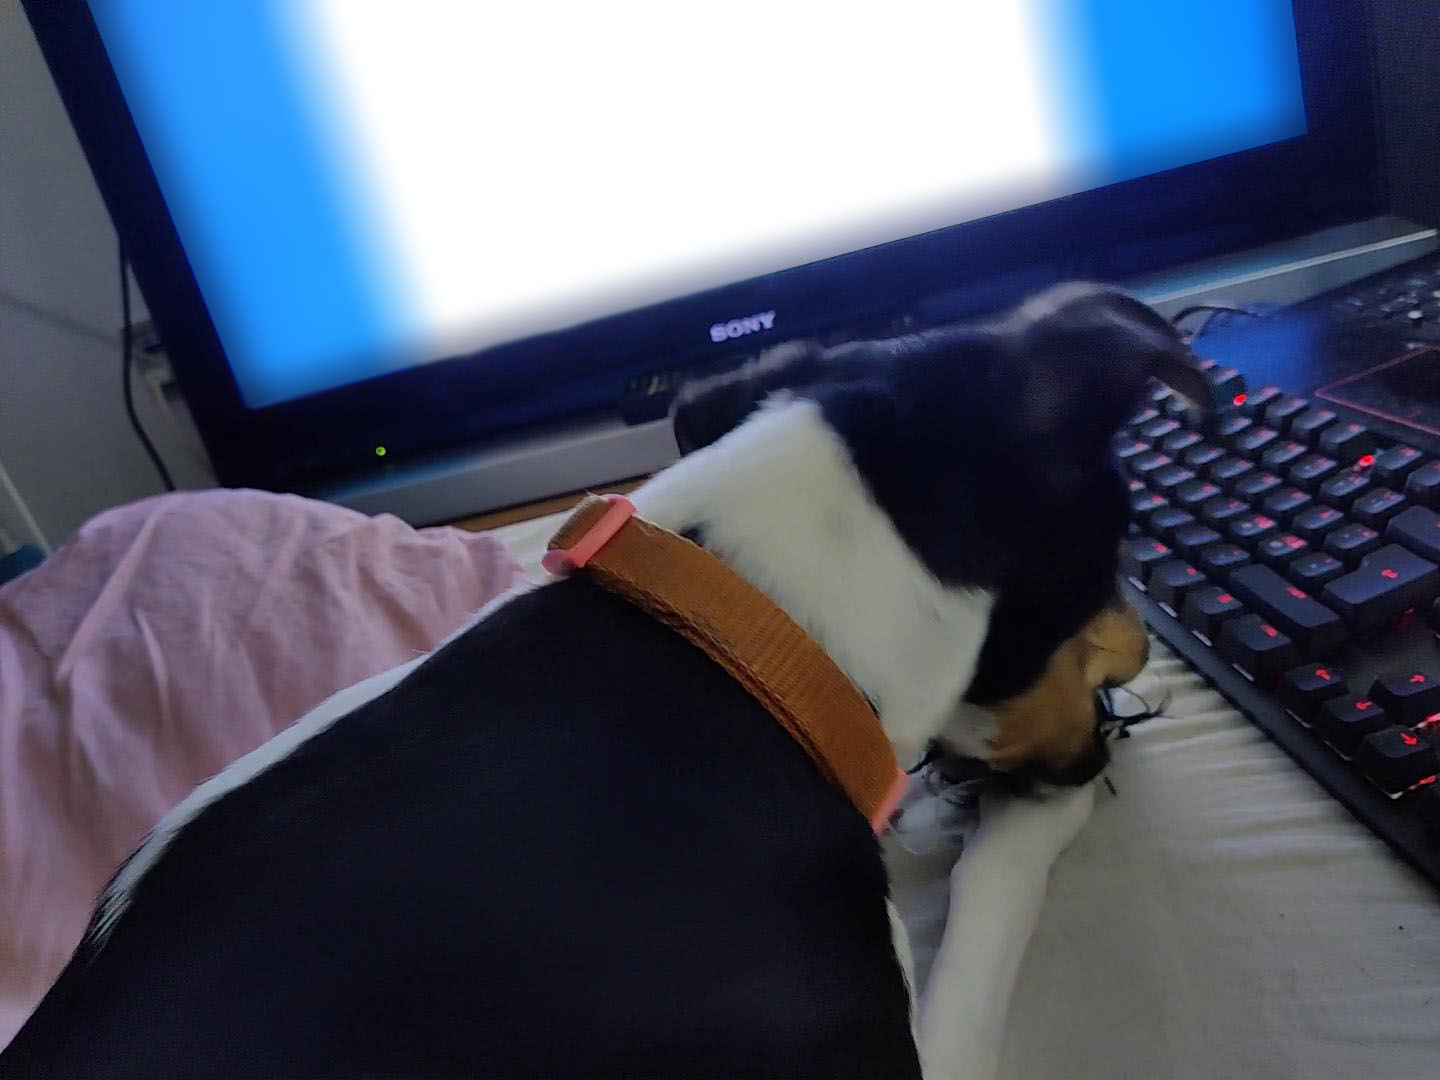Dog: (0, 282, 1230, 1079)
